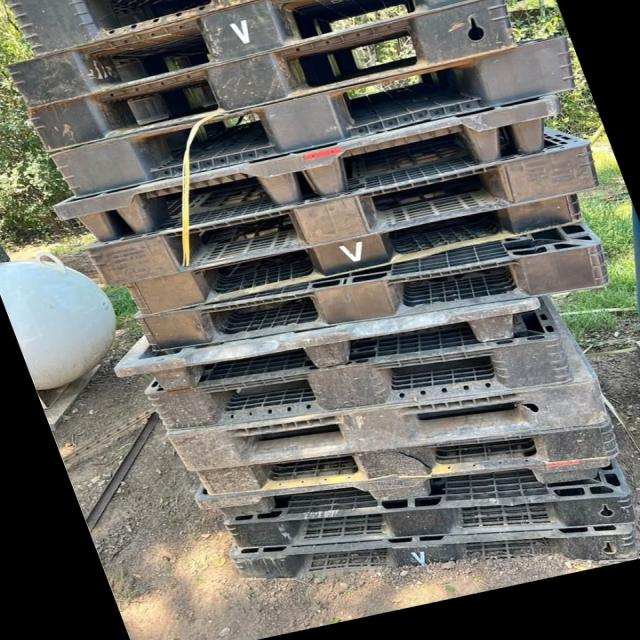non-igps: (39, 30, 584, 204), (72, 128, 608, 296), (46, 90, 568, 248), (128, 211, 620, 355), (120, 182, 590, 326), (0, 0, 530, 115), (135, 313, 588, 437), (158, 362, 620, 480), (109, 286, 550, 400), (187, 405, 629, 502), (215, 454, 640, 553), (185, 446, 622, 524), (224, 504, 639, 584), (0, 0, 263, 68)
